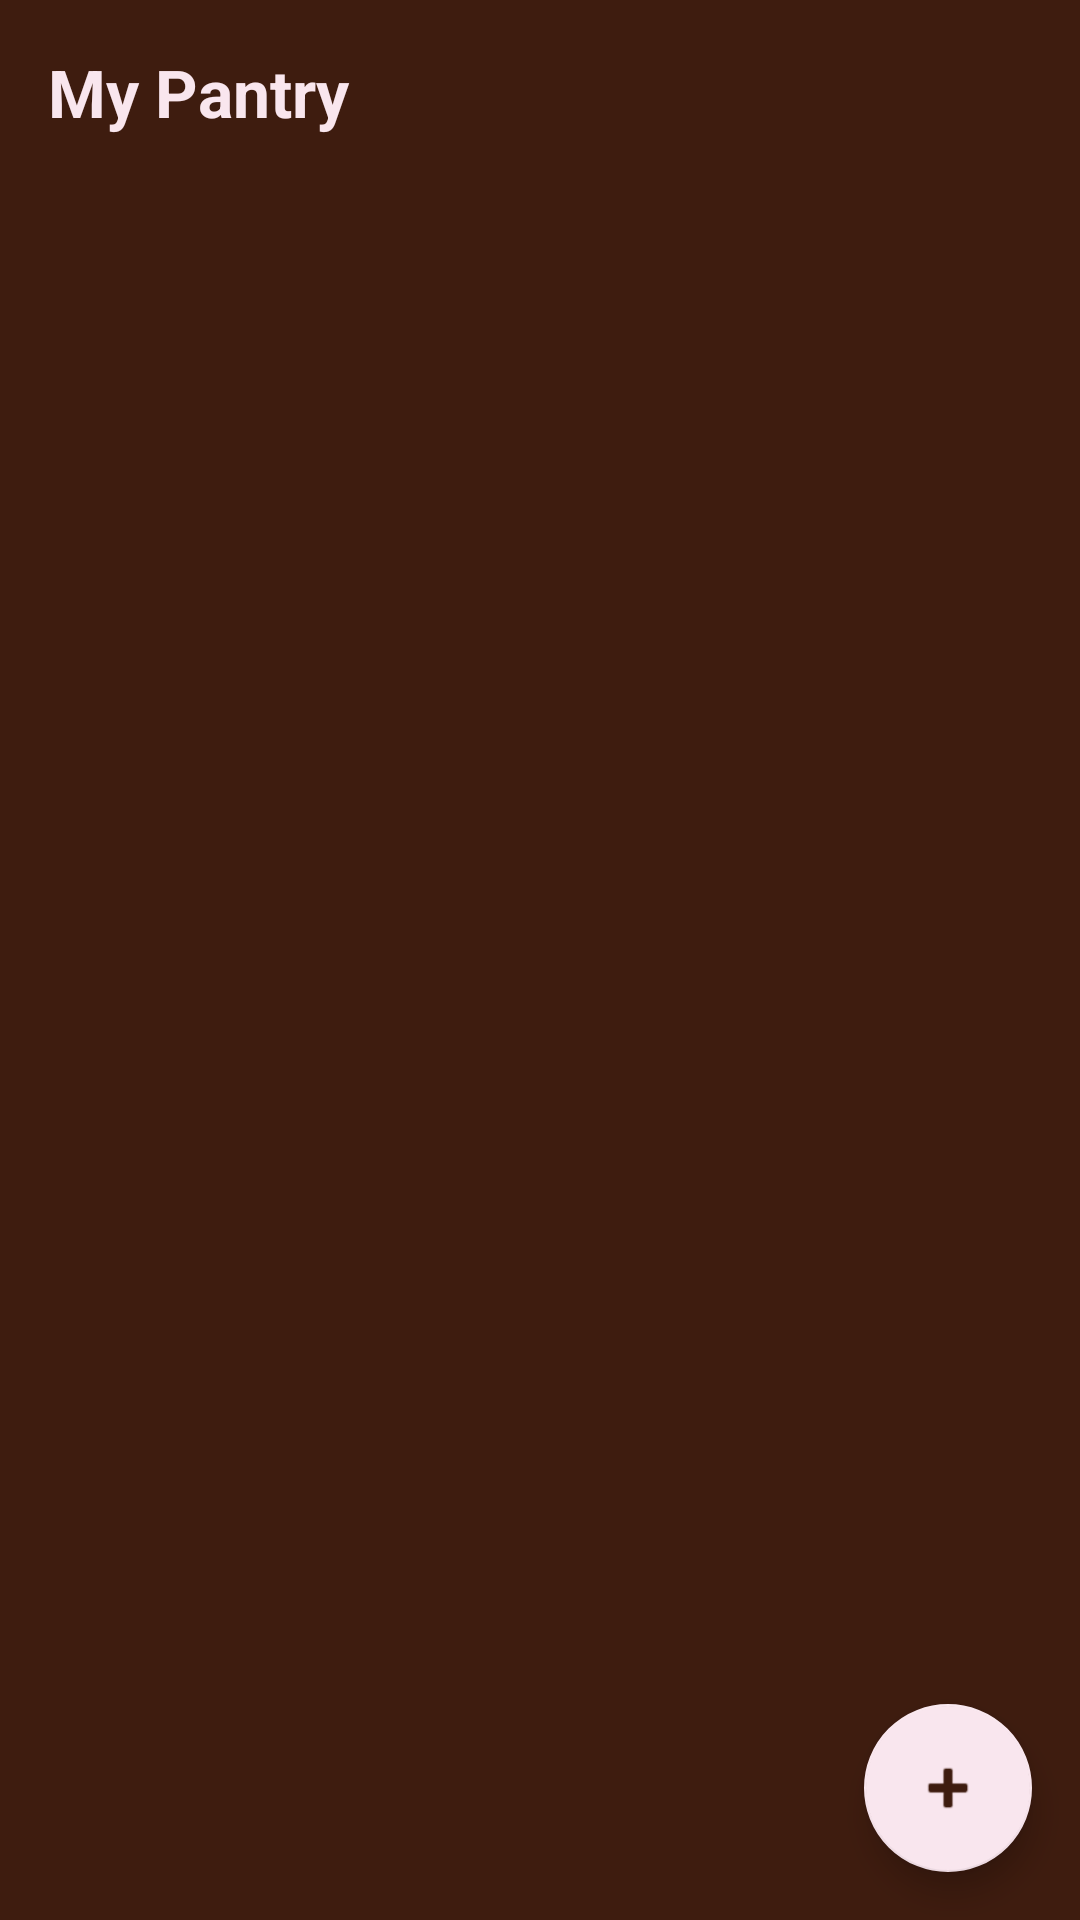

Icon click points for this 1080 x 1920 phone screenshot, format (x,y):
Add ingredient: (948,1788)
